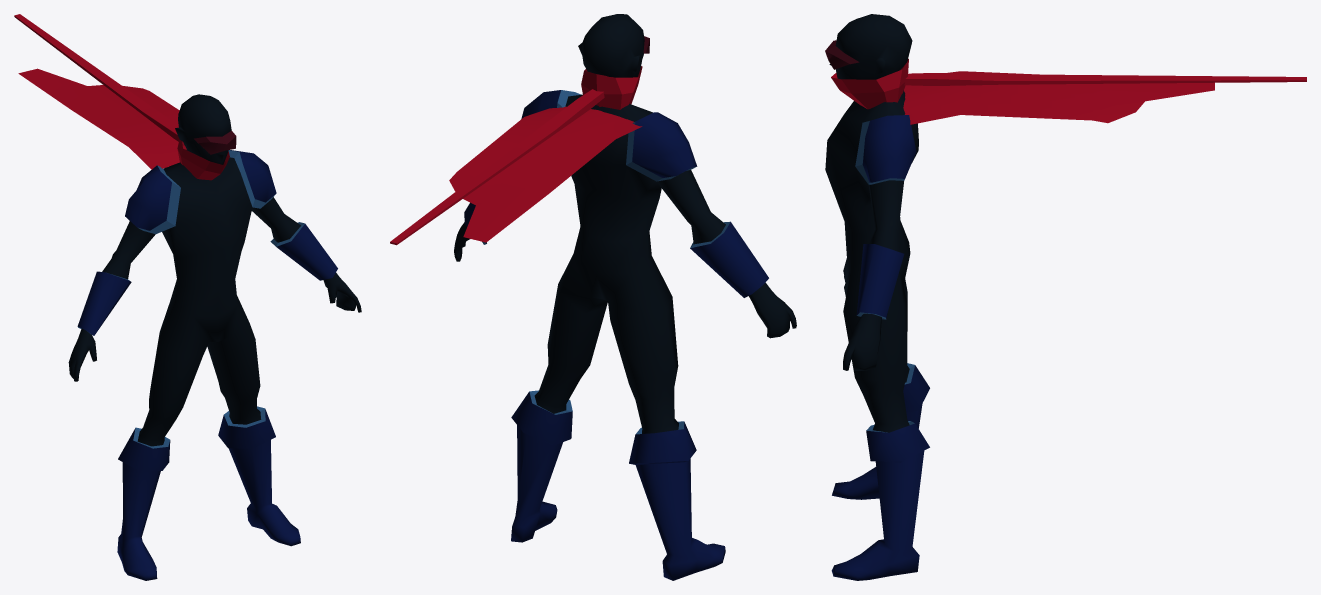
The model's file is Player_Combined.FBX.
3 views of the same model, side by side, from view 1: azimuth 30°, elevation 25°; view 2: azimuth 150°, elevation 25°; view 3: azimuth 270°, elevation 25° (orthographic). The views are drawn at different scales.
Visible parts, largest first — view 1: Player, Cape, Scarf; view 2: Player, Cape, Scarf; view 3: Player, Cape, Scarf.
Part boxes in pixels (x1=…): Player: x1=68, y1=94, x2=361, y2=580; Cape: x1=18, y1=68, x2=179, y2=169; Scarf: x1=14, y1=14, x2=229, y2=180; Player: x1=454, y1=14, x2=796, y2=580; Cape: x1=449, y1=106, x2=642, y2=242; Scarf: x1=390, y1=66, x2=642, y2=245; Player: x1=825, y1=14, x2=929, y2=580; Cape: x1=903, y1=71, x2=1214, y2=124; Scarf: x1=831, y1=58, x2=1306, y2=109.
Size of the model in its own units: 110 by 166 by 140.
